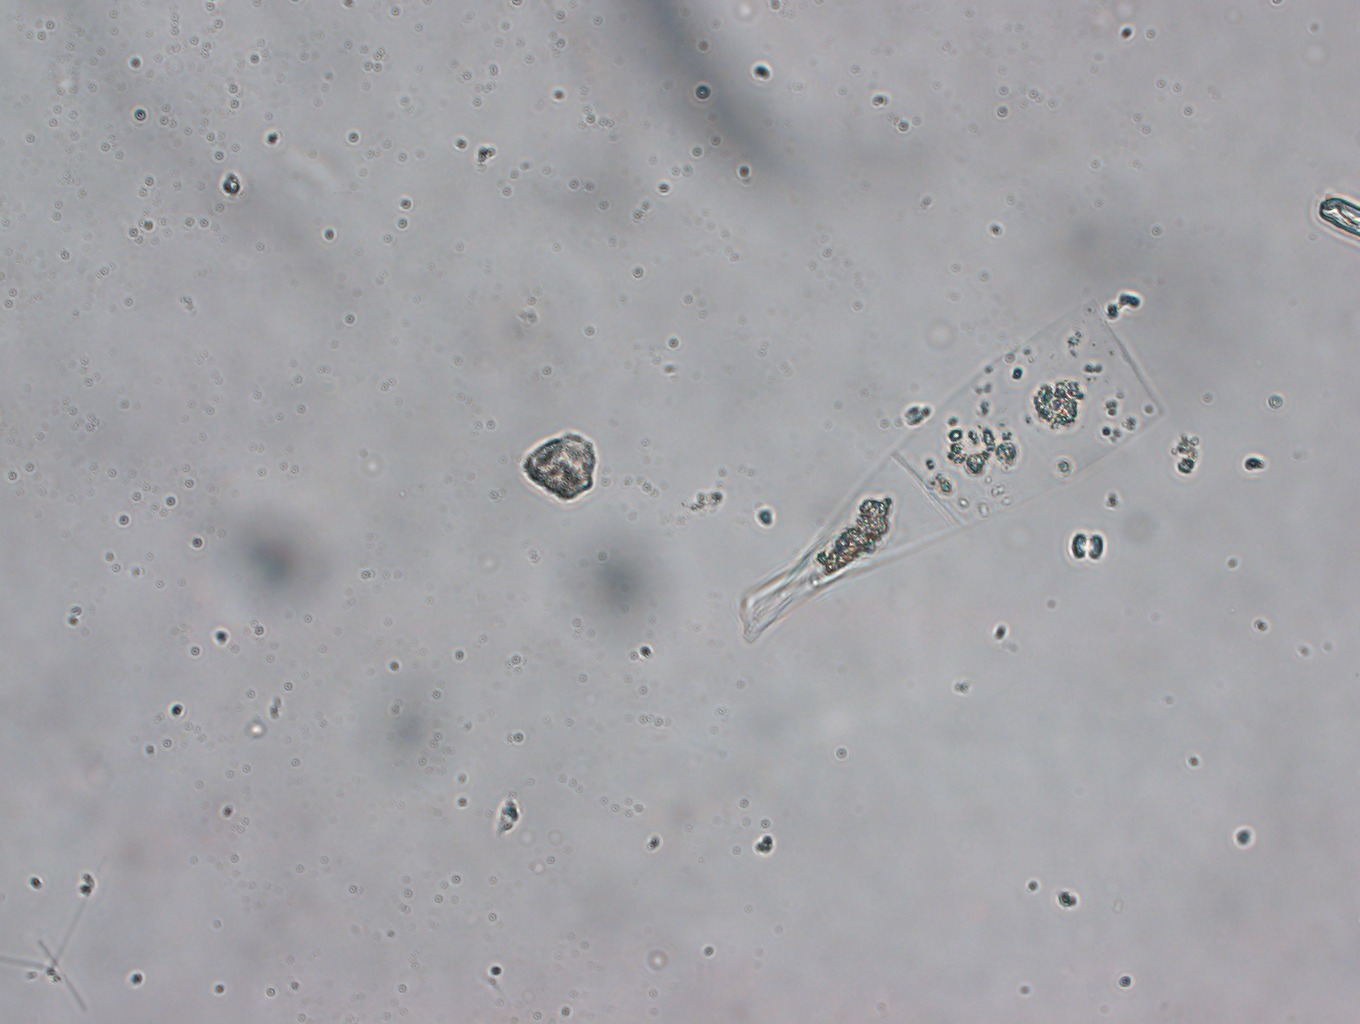helicotheca: (740, 295, 1166, 644)
